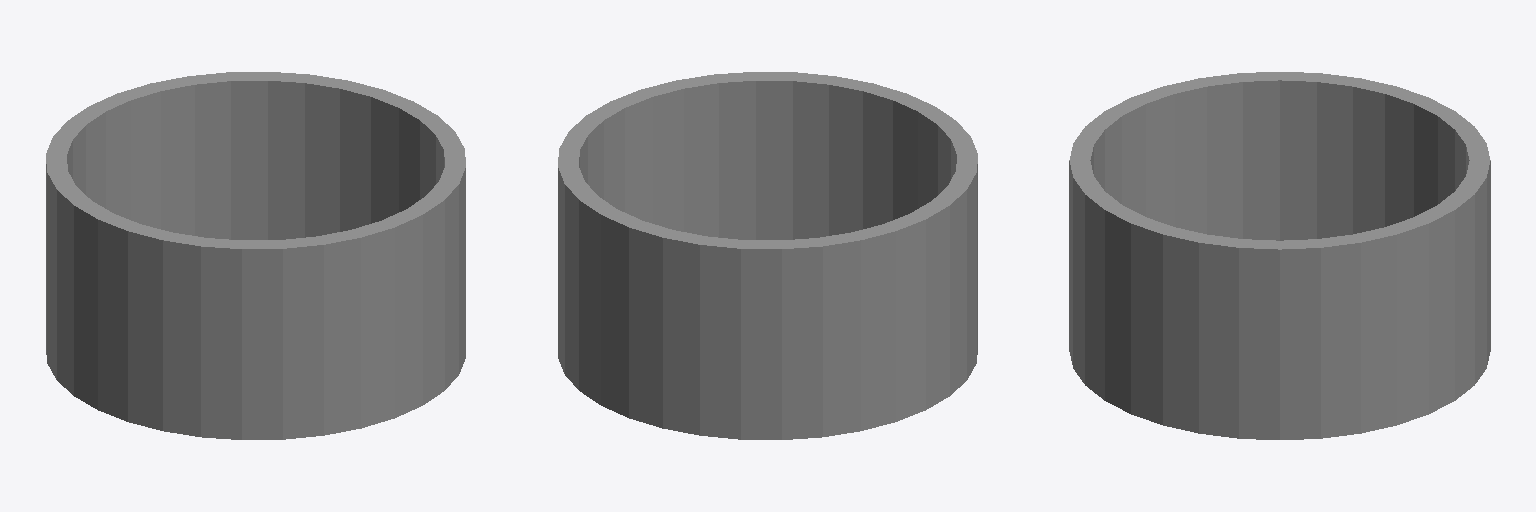
The model's file is gate4.obj.
3 views of the same model, side by side, from view 1: azimuth 30°, elevation 25°; view 2: azimuth 150°, elevation 25°; view 3: azimuth 270°, elevation 25° (orthographic).
Visible parts, largest first — view 1: Cylinder; view 2: Cylinder; view 3: Cylinder.
Part boxes in pixels (x1,y1,x2,y2): Cylinder: (46,72,465,439); Cylinder: (558,72,977,439); Cylinder: (1069,72,1490,439).
Bounding box in the file's own units: 2 × 1 × 2.